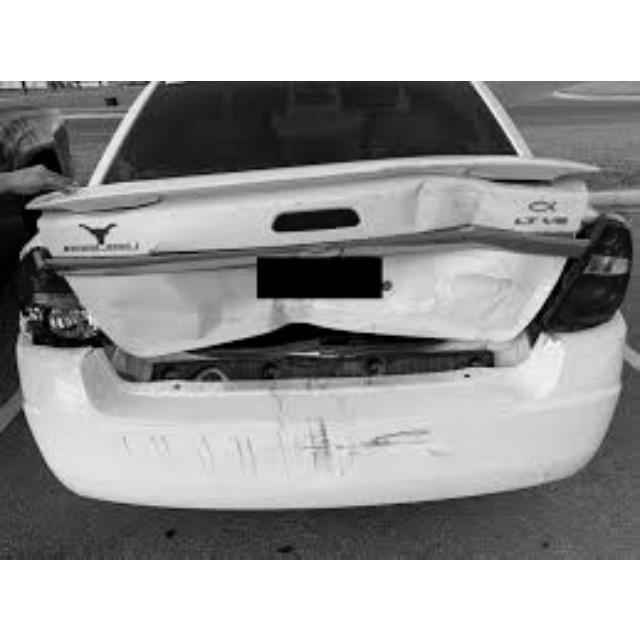boot-dent: (88, 194, 565, 364)
rear-bumper-dent: (115, 409, 444, 482)
